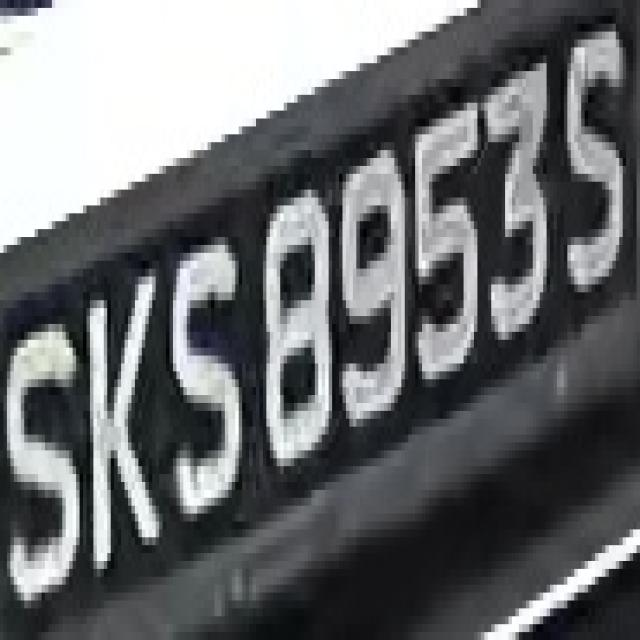3: (470, 39, 557, 363)
5: (394, 95, 488, 403)
8: (260, 174, 336, 498)
9: (332, 118, 415, 434)
K: (83, 245, 166, 577)
S: (159, 237, 249, 522), (7, 284, 83, 616), (557, 8, 633, 308)
